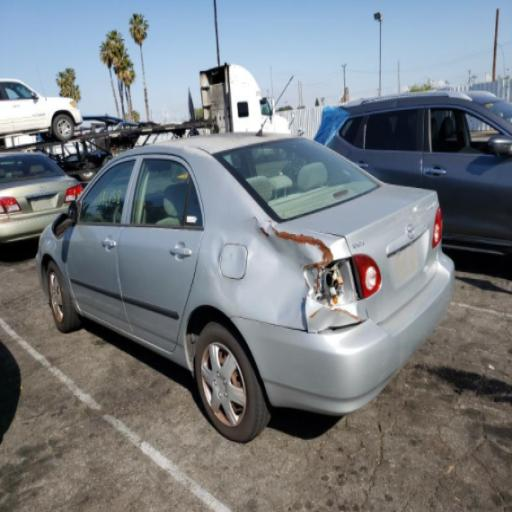dent: (209, 228, 337, 330)
rust: (258, 222, 346, 300)
